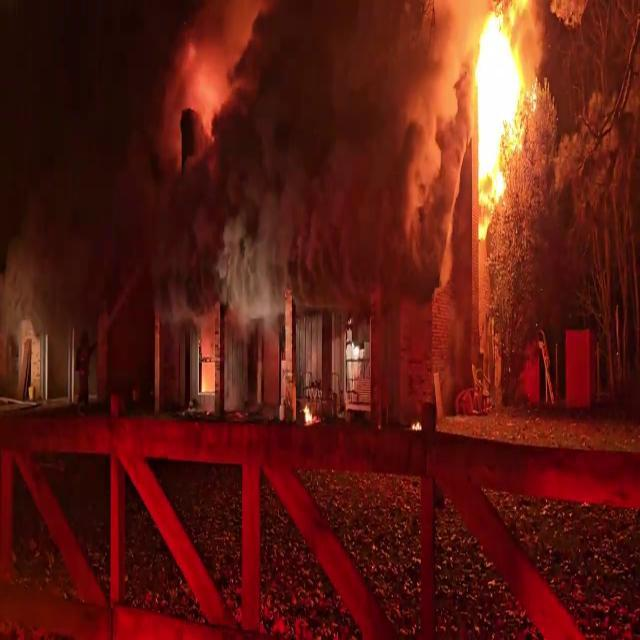Fire: (466, 2, 534, 222)
